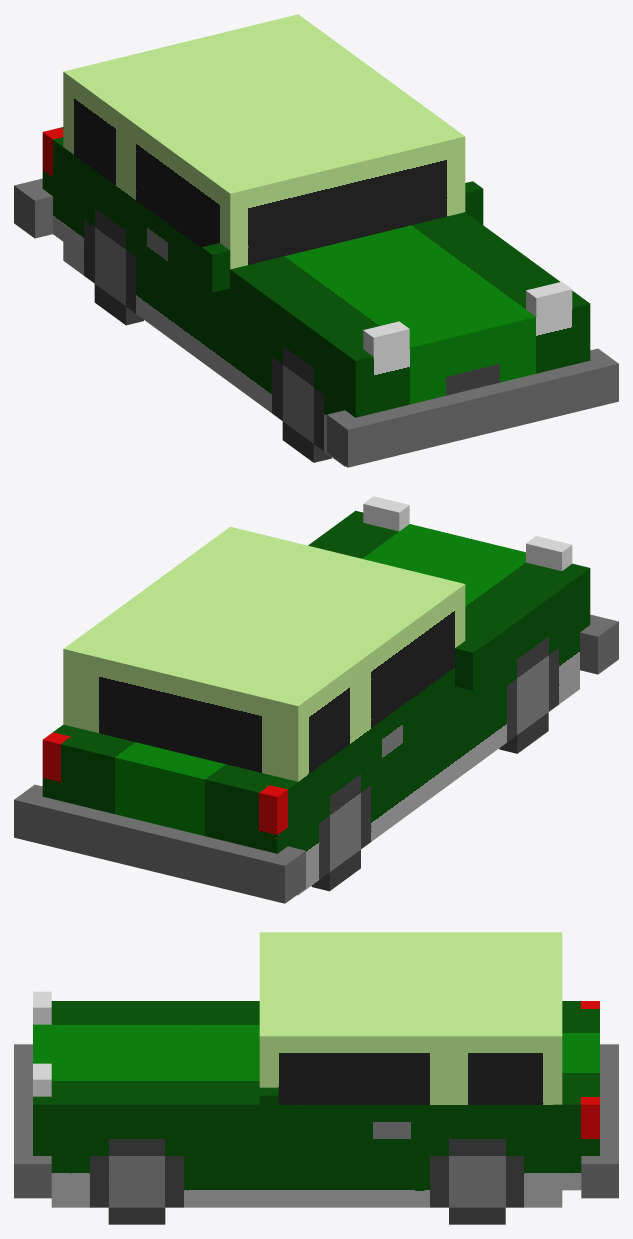
Rendered from veh_wagon2.dae.
3 renders of one model, top to bottom at view 1: azimuth 30°, elevation 25°; view 2: azimuth 150°, elevation 25°; view 3: azimuth 270°, elevation 25°, orthographic. The views are drawn at different scales.
Parts seen in each view (by area): view 1: veh_wagon2; view 2: veh_wagon2; view 3: veh_wagon2.
Part boxes in pixels (x1=…): veh_wagon2: x1=14, y1=14, x2=618, y2=467; veh_wagon2: x1=14, y1=496, x2=618, y2=903; veh_wagon2: x1=14, y1=932, x2=618, y2=1224.
Bounding box in the file's own units: 1.5 × 3.2 × 1.1.
1 material, 1 textured.
